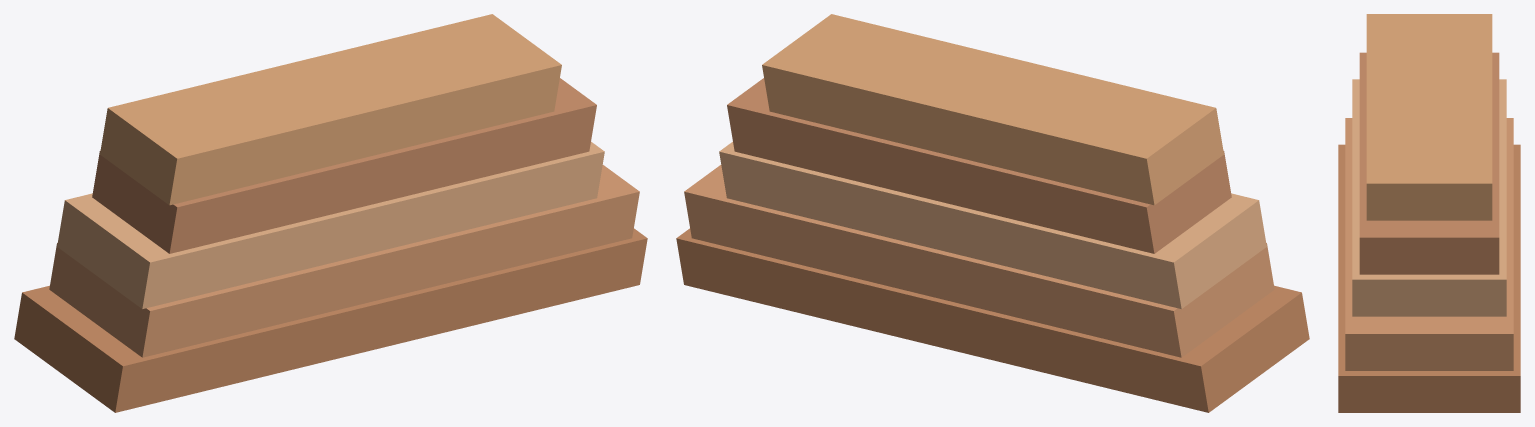
The picture shows the model from 3 angles, left to right: view 1: azimuth 30°, elevation 25°; view 2: azimuth 150°, elevation 25°; view 3: azimuth 270°, elevation 25°; orthographic projection. The views are drawn at different scales.
Size of the model in its own units: 27.4 by 11 by 9.
